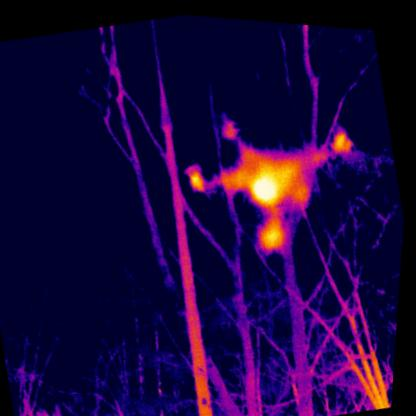drone: (169, 77, 379, 269)
